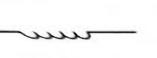inductor: (16, 25, 101, 46)
